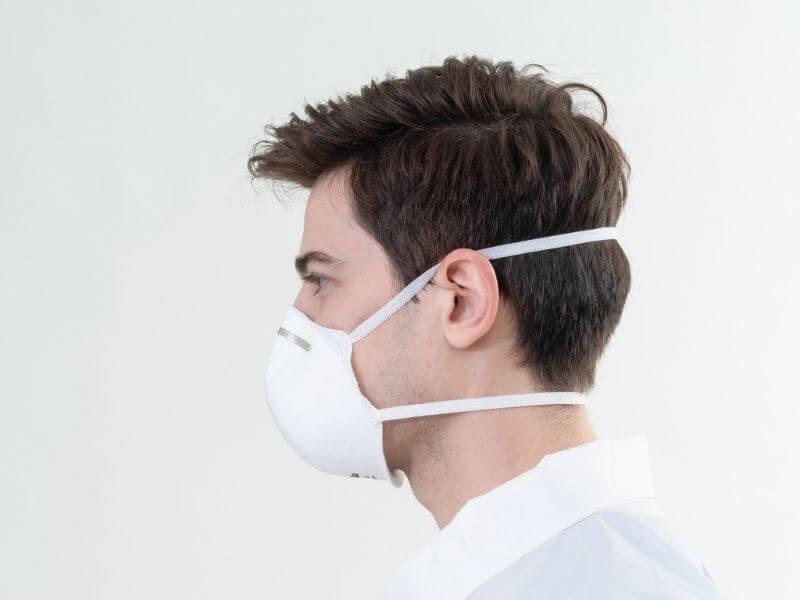with_mask: (190, 58, 645, 495)
